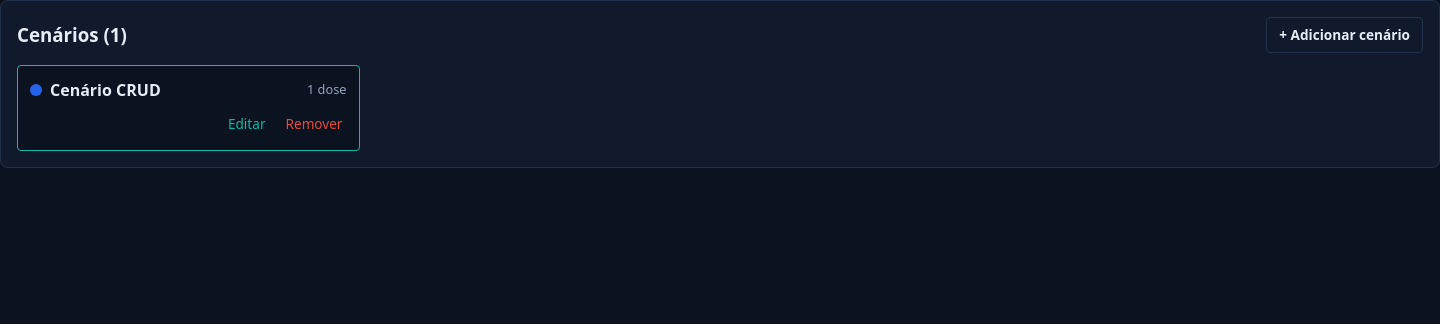
Test: E9.2 Regressions RED Phase › Blocker 3 — CRUD de Doses Transacional › ao falhar a exclusão de cenário em ScenarioList, não fecha confirmação e mantém cenário
Note: Clica em Remover
What coordinates should you click on to do the following:
click the button "Remover"
I would click on:
 (314, 124)
Its box is [282, 110, 346, 138].
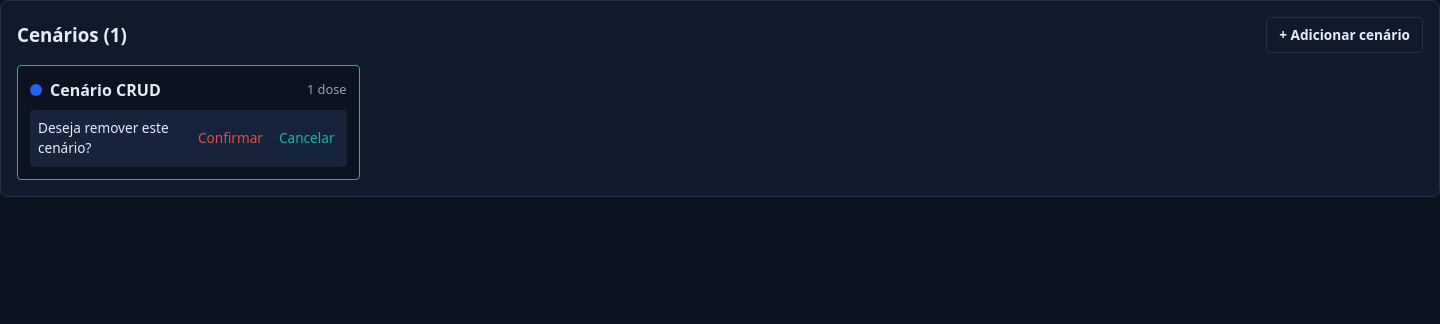
Now the text "Deseja remover este cenário?" is shown, box [38, 118, 186, 159]
Note: Clica em Confirmar
What coordinates should you click on to do the following:
click the button "Confirmar"
I would click on:
 (230, 138)
Its box is [194, 120, 267, 156].
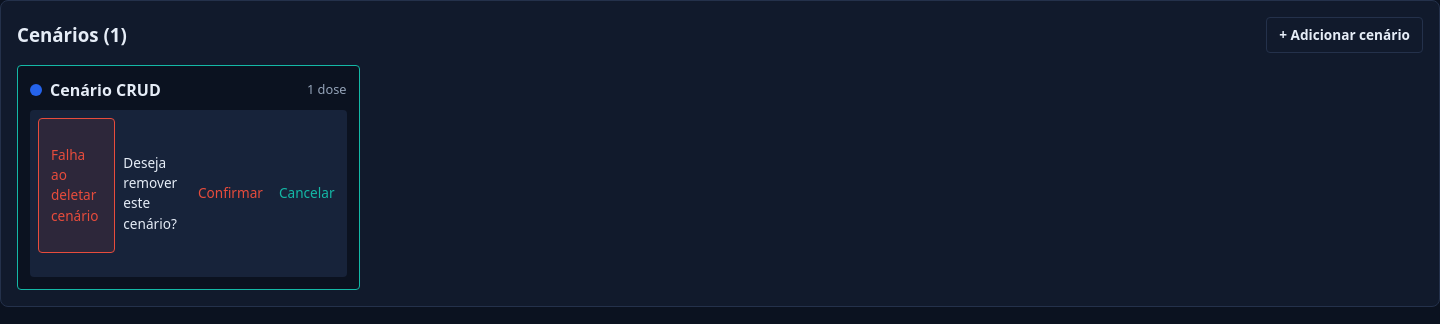
Expected: the text "Cenário CRUD" is shown, [50, 79, 161, 101]
Now the text "Falha ao deletar cenário" is shown, box [51, 145, 102, 226]
